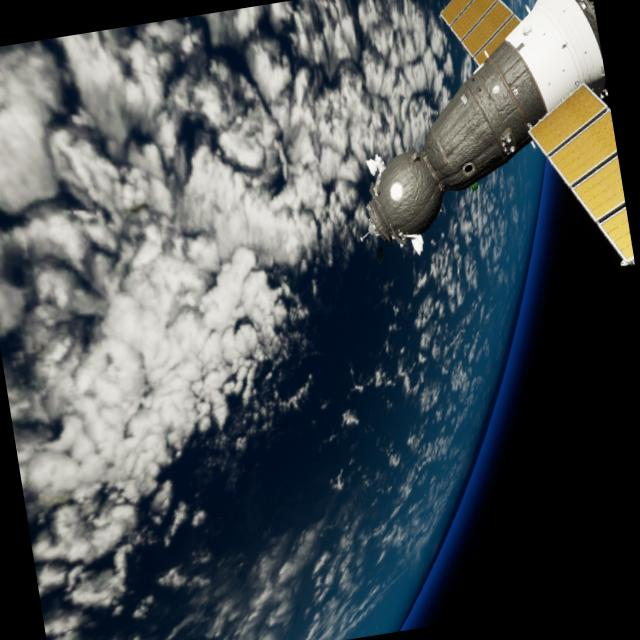Satellites revolving around earth: (324, 0, 627, 263)
